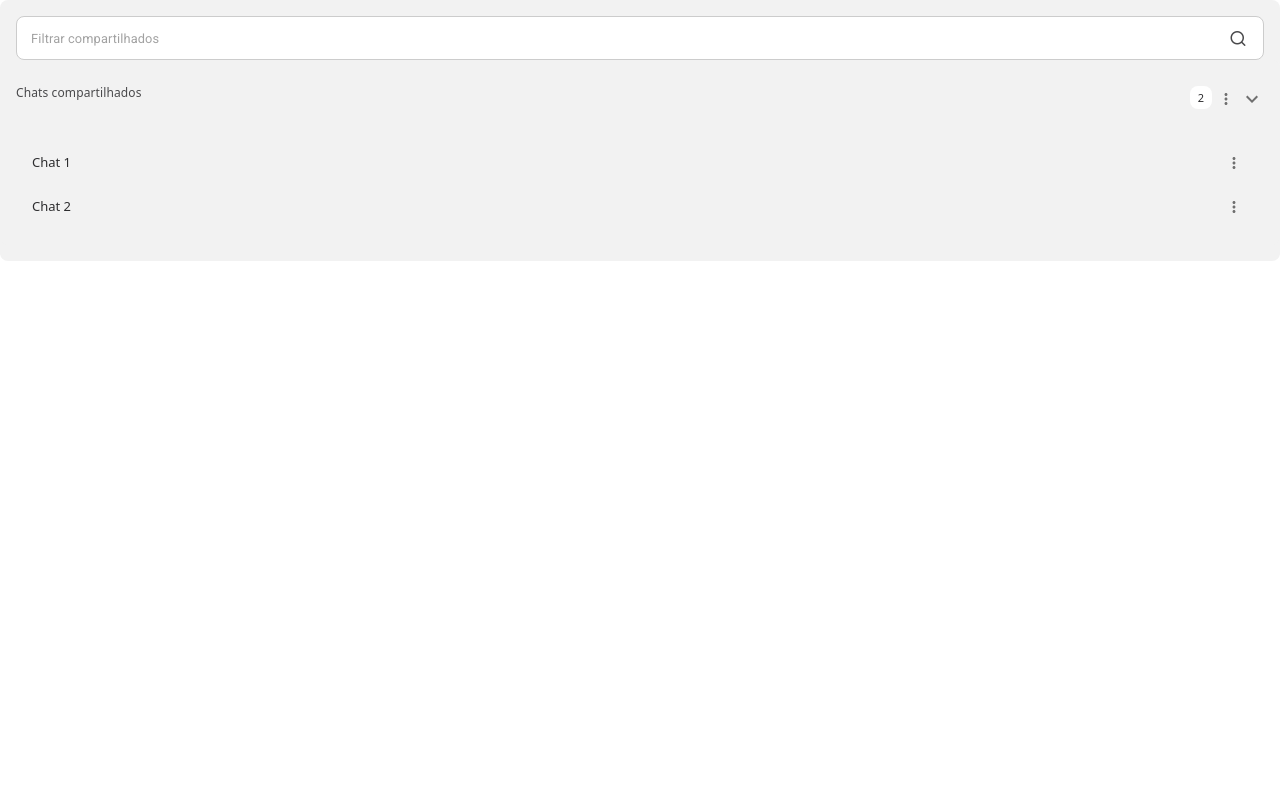
Test case: Sharing Component › abre modal de exclusão de um chat específico
Click the 1st button with test id "more-button".
click(1234, 163)  # box [1220,149,1248,177]
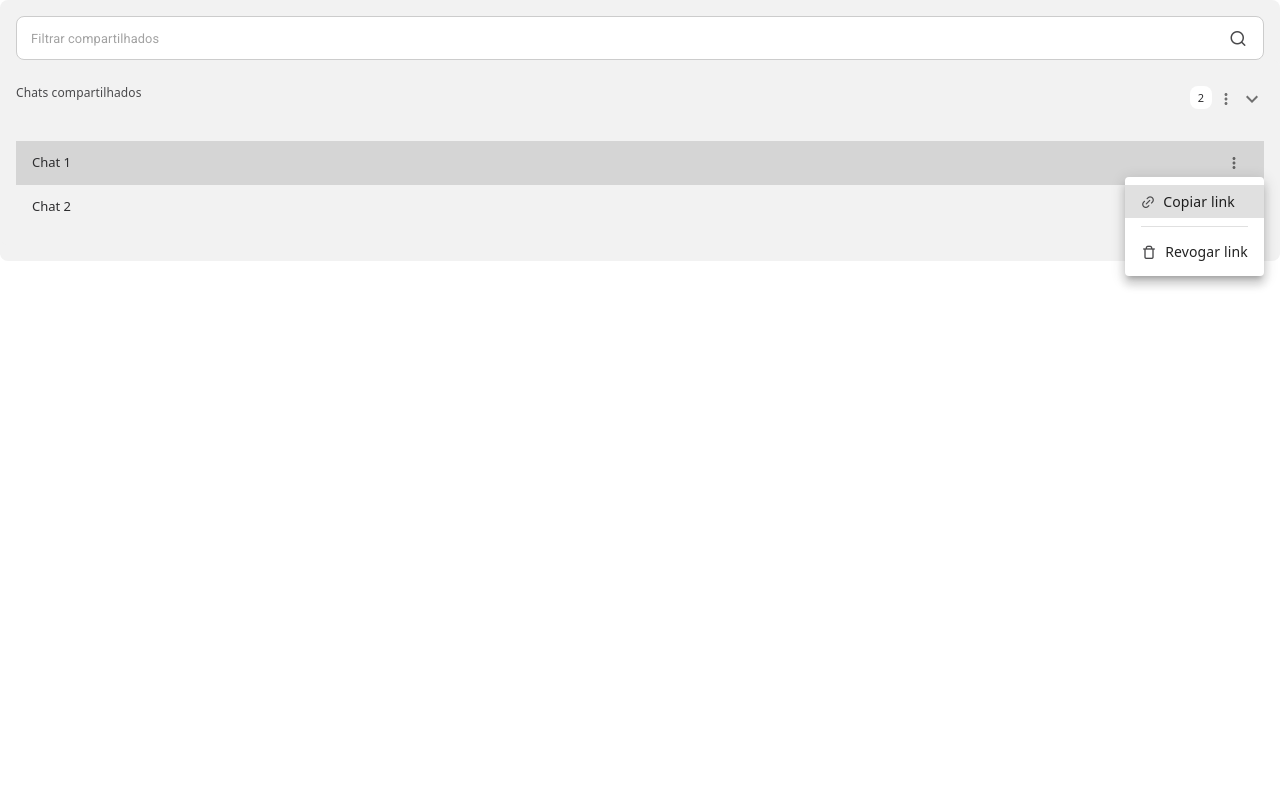
Click the menu item "Revogar link".
click(1194, 252)  # box [1141,242,1248,261]
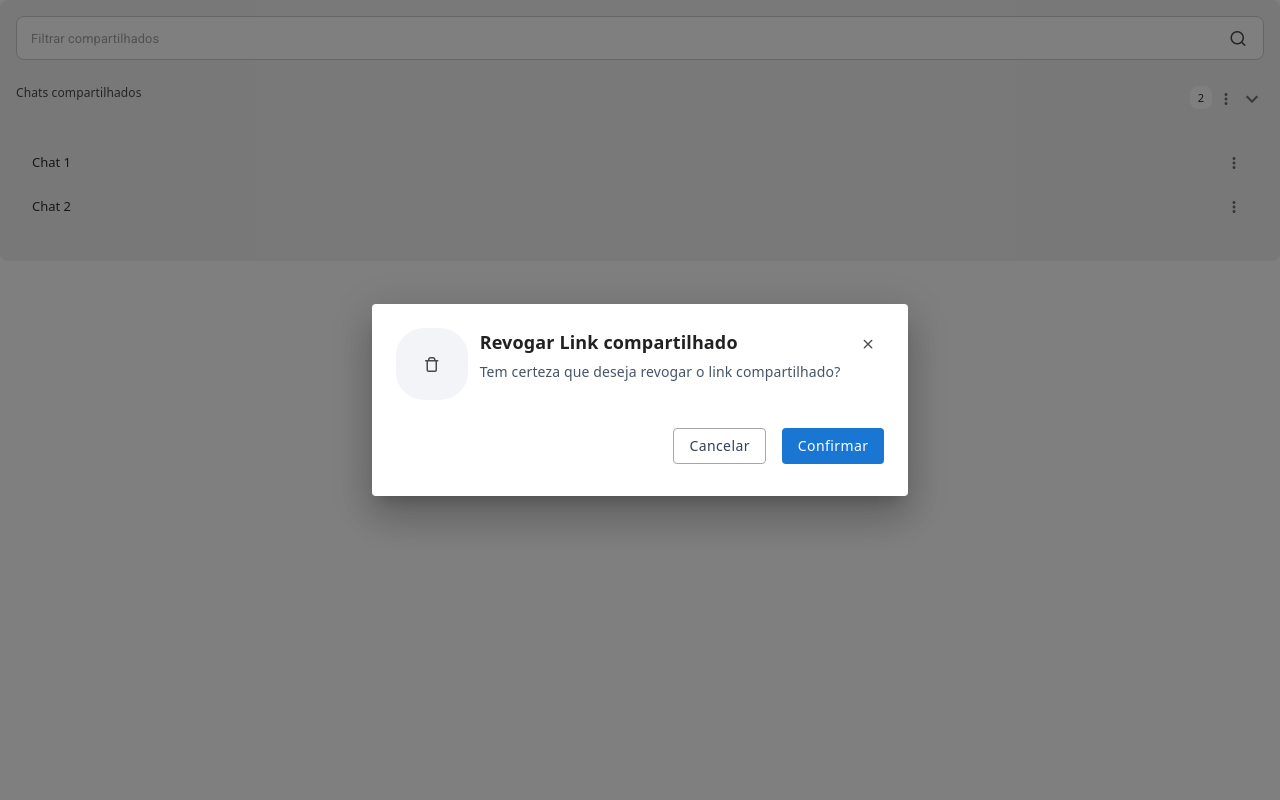
Now the heading "Revogar Link compartilhado" is shown, box [480,328,738,357]
